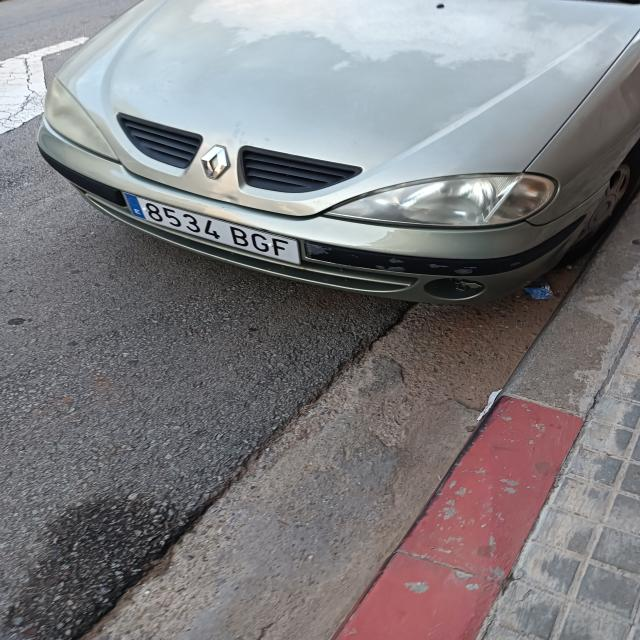license_plate-34Td: (125, 193, 300, 264)
